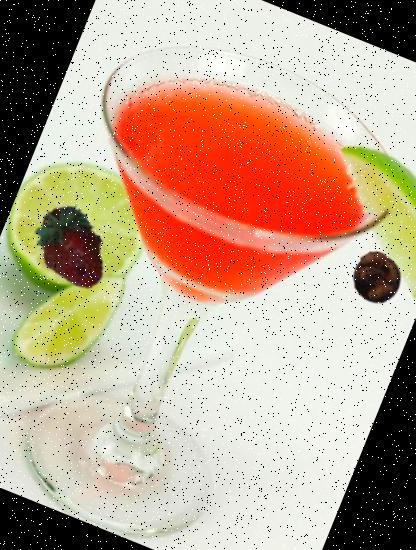Mangostan: (341, 242, 412, 312)
Strawberry: (11, 188, 131, 308)
